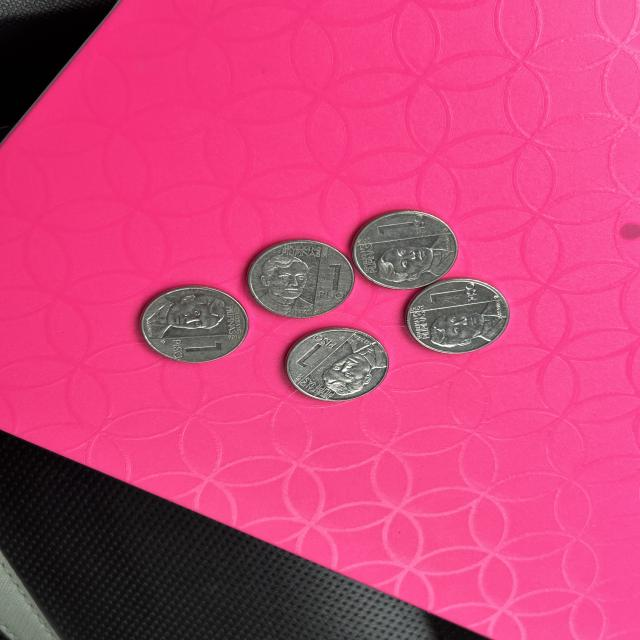1_New_Front: (368, 212, 429, 240), (294, 328, 333, 370), (315, 258, 349, 304), (169, 338, 228, 360), (429, 284, 489, 305)
